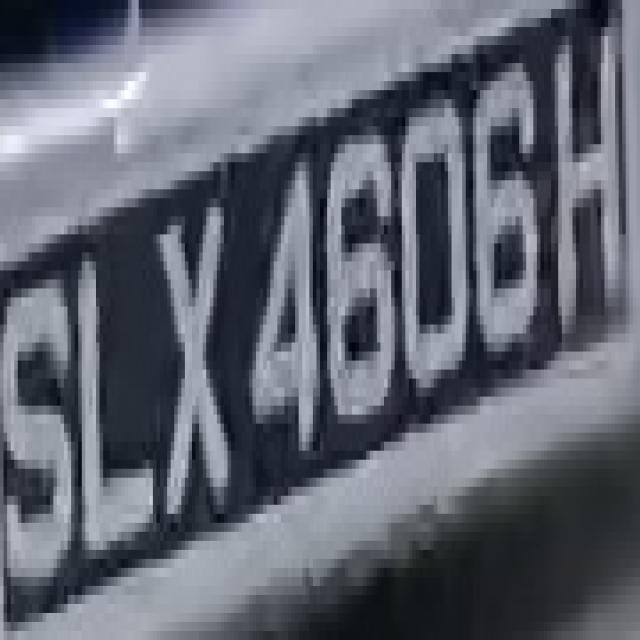0: (391, 90, 469, 424)
4: (242, 126, 324, 460)
6: (455, 54, 548, 379), (327, 117, 388, 460)
H: (548, 18, 630, 334)
L: (71, 216, 160, 586)
S: (7, 252, 78, 595)
X: (149, 171, 242, 568)
